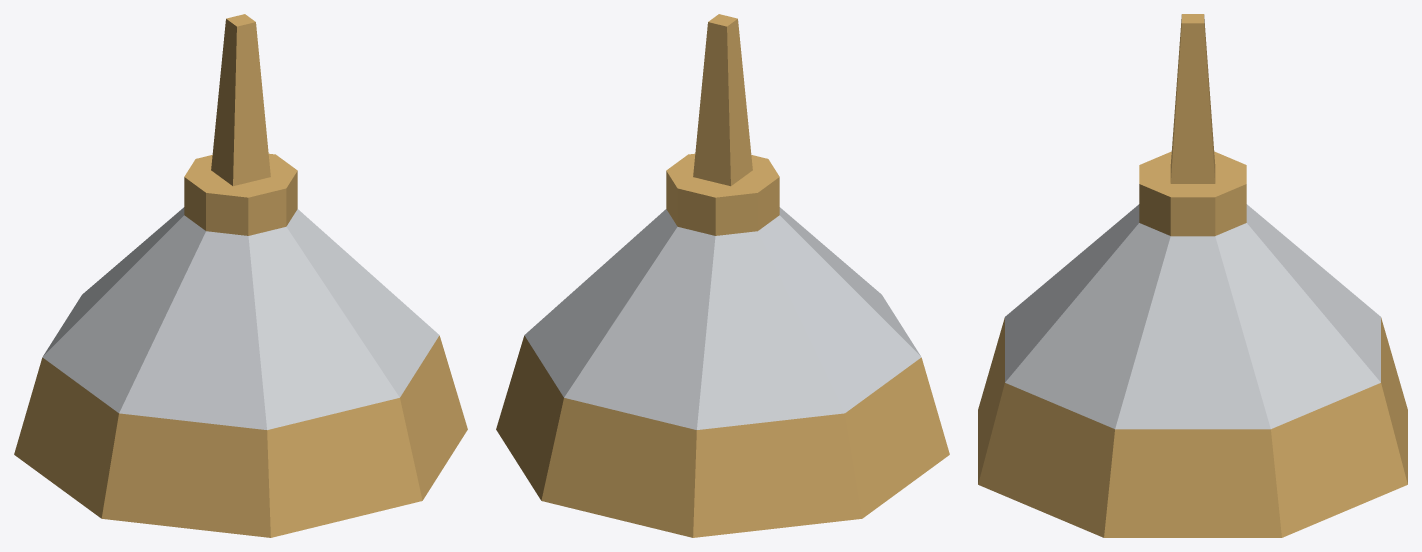
Rendered from rocket_topB.glb.
3 renders of one model, left to right at view 1: azimuth 30°, elevation 25°; view 2: azimuth 150°, elevation 25°; view 3: azimuth 270°, elevation 25°, orthographic.
Parts seen in each view (by area): view 1: rocket_topB; view 2: rocket_topB; view 3: rocket_topB.
Boxes of the visible parts, x1,y1,x2,y2 form: rocket_topB: (14,14,467,537); rocket_topB: (496,14,949,537); rocket_topB: (978,14,1407,537).
Bounding box in the file's own units: 0.9091 × 1 × 0.9091.
